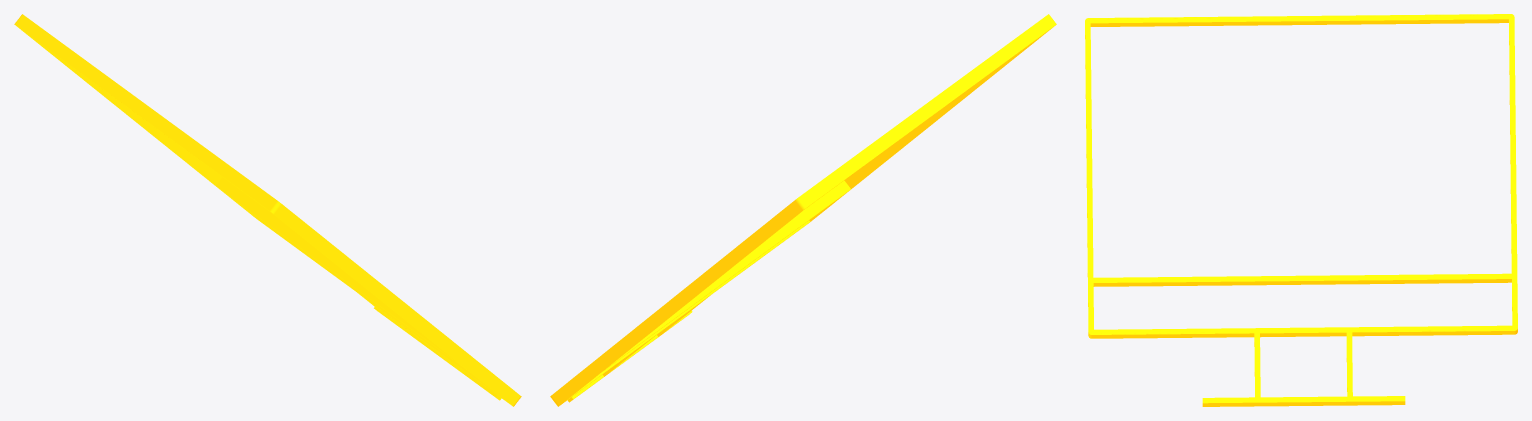
File: image_selected.glb
The picture shows the model from 3 angles, left to right: view 1: azimuth 30°, elevation 25°; view 2: azimuth 150°, elevation 25°; view 3: azimuth 270°, elevation 25°; orthographic projection. The views are drawn at different scales.
Parts seen in each view (by area): view 1: image_selected; view 2: image_selected; view 3: image_selected.
Part boxes in pixels (bbox=[...]): image_selected: bbox=[14, 14, 521, 406]; image_selected: bbox=[550, 14, 1056, 406]; image_selected: bbox=[1085, 14, 1517, 406].
Bounding box in the file's own units: 0.0327 × 0.0326 × 0.047.
